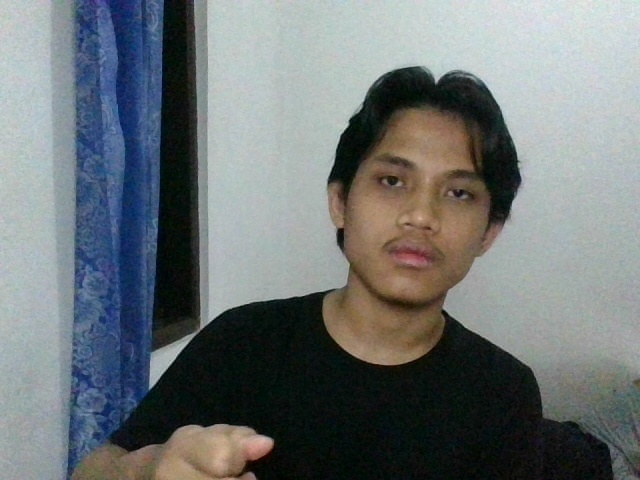Nine: (141, 391, 283, 480)
